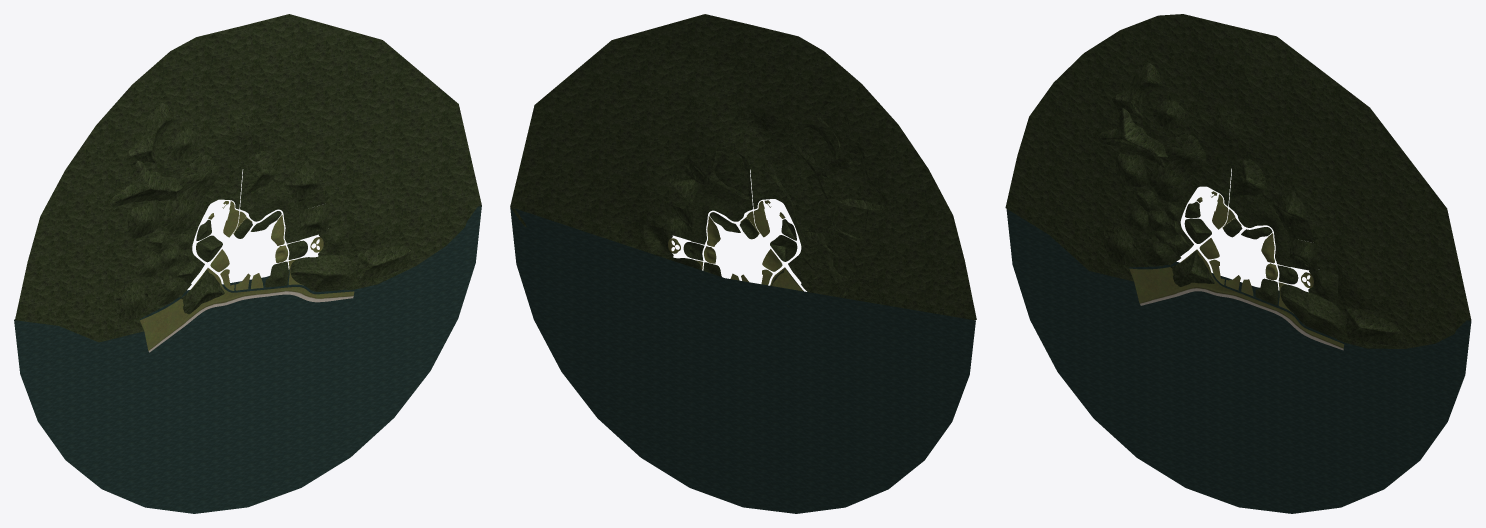
3 renders of one model, left to right at view 1: azimuth 30°, elevation 25°; view 2: azimuth 150°, elevation 25°; view 3: azimuth 330°, elevation 25°, orthographic.
Visible parts, largest first — view 1: d_forest_3, d_ocean_0, d_forest_2, d_forest_1, d_grase_6, d_gravel_5, d_grase_4; view 2: d_ocean_0, d_forest_3, d_forest_1, d_forest_2, d_grase_6; view 3: d_forest_3, d_ocean_0, d_forest_2, d_forest_1, d_grase_6, d_gravel_5.
Boxes of the visible parts, <box> form: d_forest_3: <box>15,14,481,342</box>; d_ocean_0: <box>14,205,481,513</box>; d_forest_2: <box>110,103,224,322</box>; d_forest_1: <box>196,151,411,291</box>; d_grase_6: <box>140,201,354,349</box>; d_gravel_5: <box>149,292,353,352</box>; d_grase_4: <box>148,290,353,351</box>; d_ocean_0: <box>510,207,975,513</box>; d_forest_3: <box>510,14,976,320</box>; d_forest_1: <box>580,142,797,276</box>; d_forest_2: <box>765,101,887,306</box>; d_grase_6: <box>668,200,803,291</box>; d_forest_3: <box>1005,14,1471,348</box>; d_ocean_0: <box>1006,209,1471,513</box>; d_forest_2: <box>1098,62,1214,286</box>; d_forest_1: <box>1184,158,1400,345</box>; d_grase_6: <box>1129,191,1344,347</box>; d_gravel_5: <box>1140,289,1343,350</box>.
Bounding box in the file's own units: 1000000 × 990000 × 31065.
Materials: 5 (5 with a texture image).
